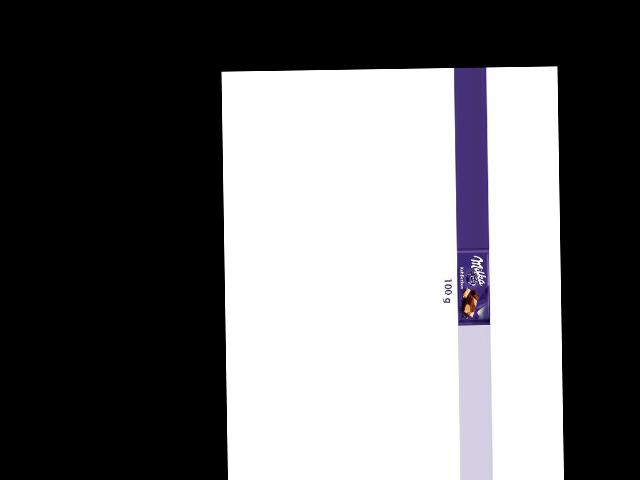chocolate: (455, 247, 490, 326)
